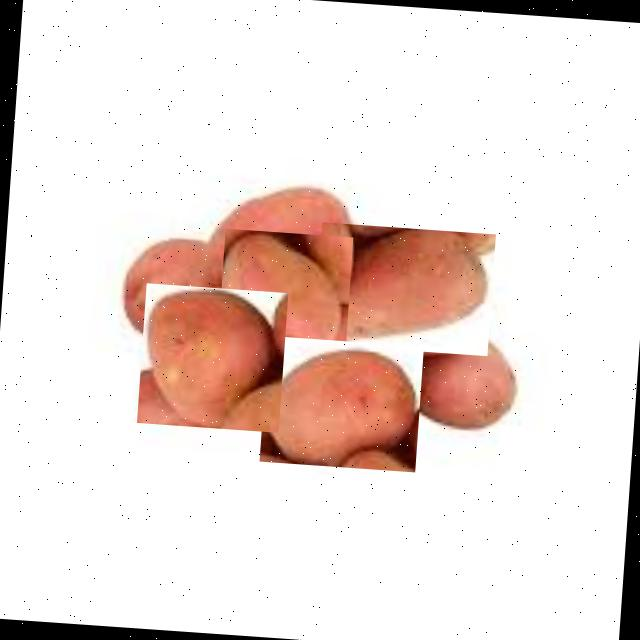Potato: (312, 220, 494, 354), (136, 282, 286, 432), (258, 334, 422, 471), (327, 316, 524, 429), (216, 227, 352, 362)
